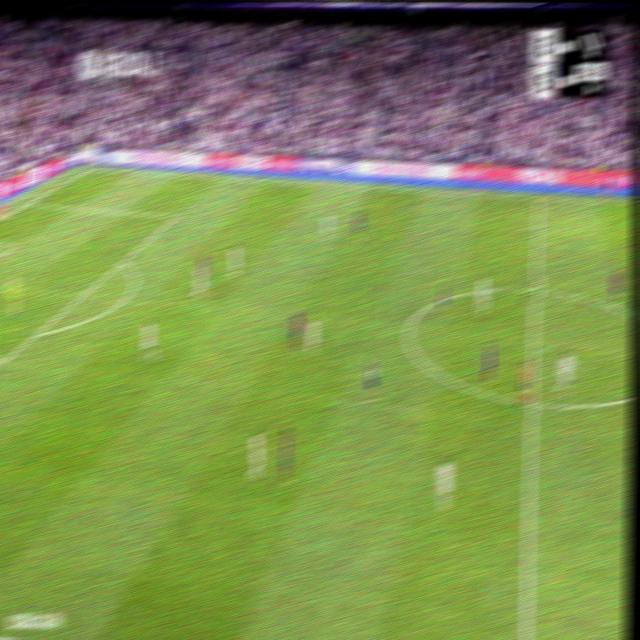bigarea_top_inner: (170, 210, 179, 221)
bigarea_top_outter: (24, 196, 37, 207)
bottom_arc_area_intersection: (30, 323, 44, 342)
corner: (85, 163, 97, 172)
halfcircle_bottom: (524, 390, 540, 415)
halfcircle_top: (527, 278, 544, 301)
midline_top_intersection: (534, 192, 544, 204)
smallarea_top_inner: (12, 238, 23, 249)
top_arc_area_intersection: (117, 253, 127, 267)
